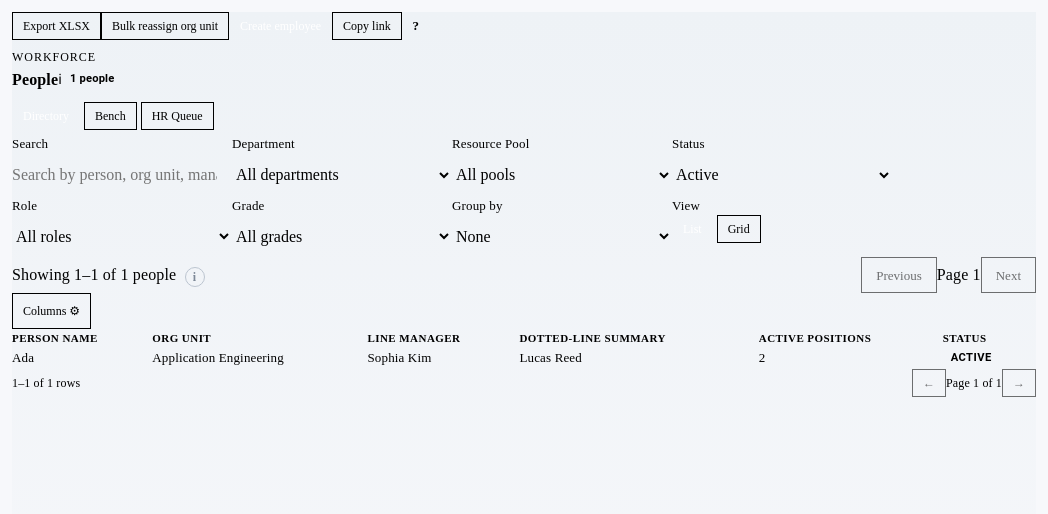
Test case: EmployeeDirectoryPage — bulk reassign org unit › shows the toggle button for HR + opens the panel
Click the button with test id "people-bulk-reassign-toggle" at (165, 26), box [101,12,229,40]
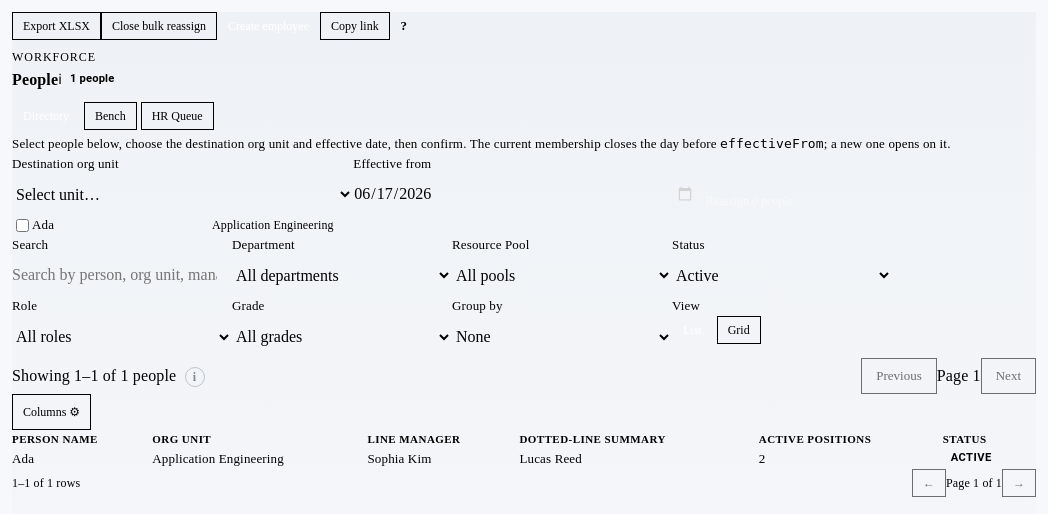
Now the element with test id "people-bulk-reassign-panel" is shown, box [12,134,1036,235]
Now the dropdown with test id "people-bulk-target-unit" is shown, box [12,173,353,215]
Now the date field with test id "people-bulk-effective-from" is shown, box [353,173,695,215]
